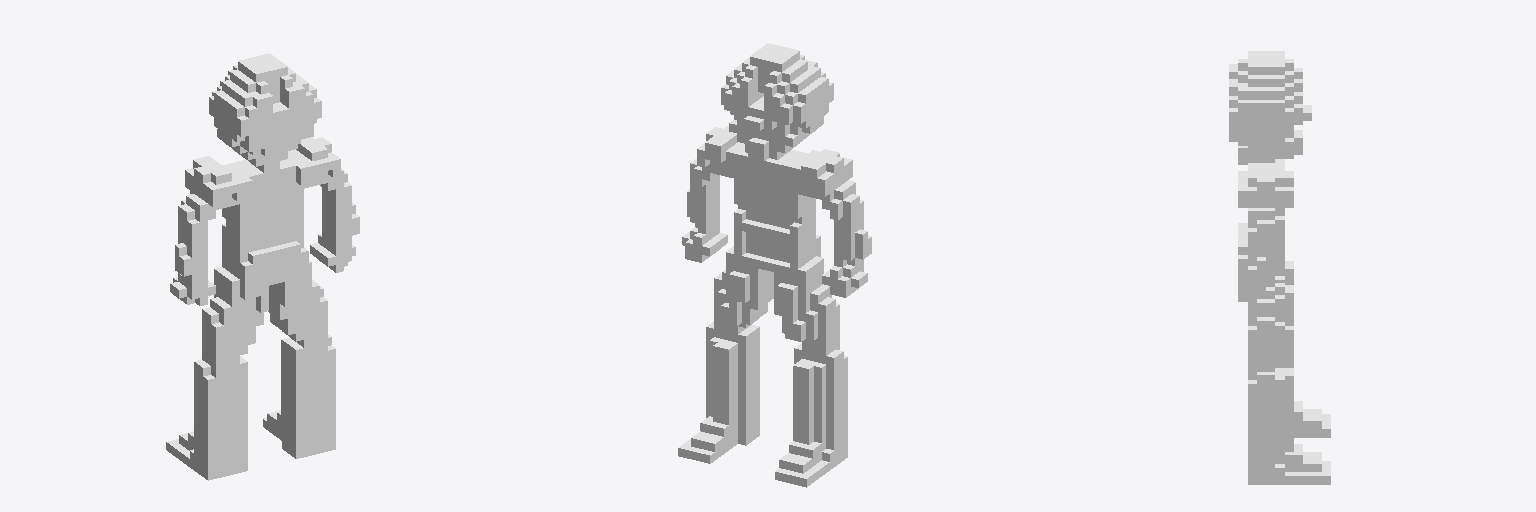
File: actor-mega1.obj
3 views of the same model, side by side, from view 1: azimuth 30°, elevation 25°; view 2: azimuth 150°, elevation 25°; view 3: azimuth 270°, elevation 25° (orthographic).
Size of the model in its own units: 22 by 47 by 11.